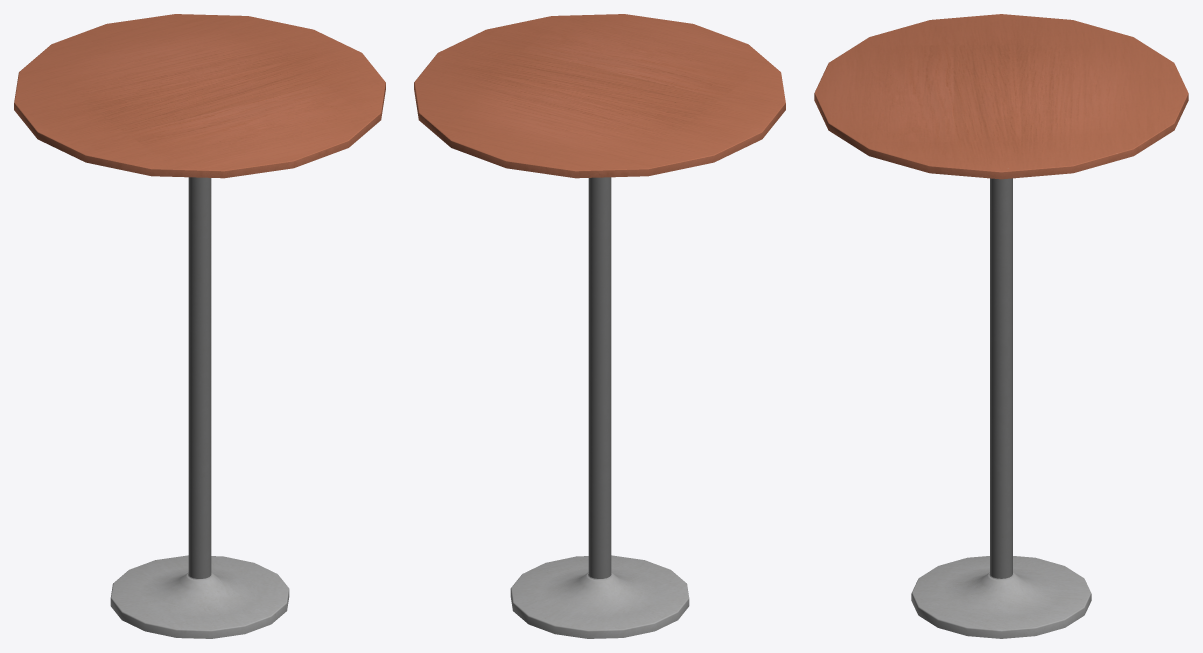
Rendered from long_table_02.fbx.
3 renders of one model, left to right at view 1: azimuth 30°, elevation 25°; view 2: azimuth 150°, elevation 25°; view 3: azimuth 270°, elevation 25°, orthographic.
Visible parts, largest first — view 1: long_table_02; view 2: long_table_02; view 3: long_table_02.
Part boxes in pixels (x1,y1,x2,y2): long_table_02: [14, 14, 385, 638]; long_table_02: [414, 14, 785, 638]; long_table_02: [814, 14, 1188, 638].
Size of the model in its own units: 68.28 by 102 by 68.28.
